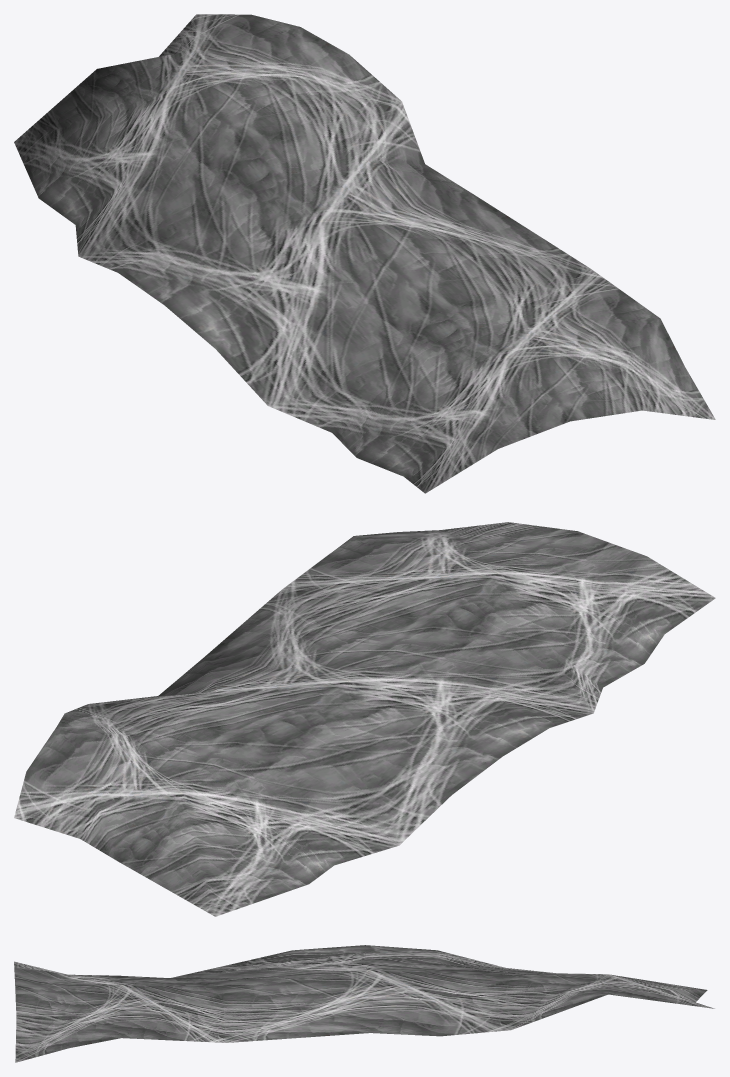
The model's file is SWORDLIGHT20_PS-AREA01_37.fbx.
The picture shows the model from 3 angles, top to bottom: view 1: azimuth 30°, elevation 25°; view 2: azimuth 150°, elevation 25°; view 3: azimuth 270°, elevation 25°; orthographic projection. The views are drawn at different scales.
Parts seen in each view (by area): view 1: SWORDLIGHT20_PS-AREA01_37; view 2: SWORDLIGHT20_PS-AREA01_37; view 3: SWORDLIGHT20_PS-AREA01_37.
Boxes of the visible parts, x1=… form: SWORDLIGHT20_PS-AREA01_37: x1=14, y1=14, x2=715, y2=493; SWORDLIGHT20_PS-AREA01_37: x1=14, y1=522, x2=715, y2=916; SWORDLIGHT20_PS-AREA01_37: x1=14, y1=945, x2=714, y2=1062.
Size of the model in its own units: 58339 by 18922 by 145258.
1 material, 1 textured.
